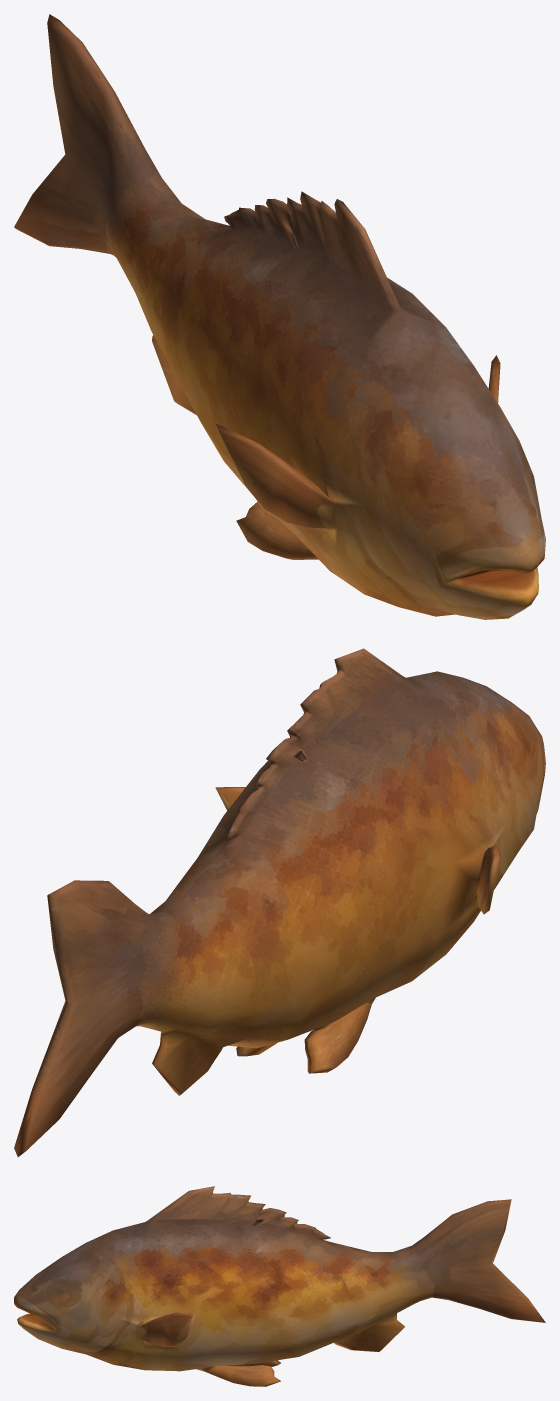
Rendered from grilled_fish.glb.
3 views of the same model, one above another, from view 1: azimuth 30°, elevation 25°; view 2: azimuth 150°, elevation 25°; view 3: azimuth 270°, elevation 25° (orthographic). The views are drawn at different scales.
Visible parts, largest first — view 1: tripo_node_620df029-07d1-45ca-aa52-ed0ce818d7c1; view 2: tripo_node_620df029-07d1-45ca-aa52-ed0ce818d7c1; view 3: tripo_node_620df029-07d1-45ca-aa52-ed0ce818d7c1.
Boxes of the visible parts, box(x1,y1,x2,y2) form: tripo_node_620df029-07d1-45ca-aa52-ed0ce818d7c1: box(14, 14, 545, 619); tripo_node_620df029-07d1-45ca-aa52-ed0ce818d7c1: box(14, 648, 545, 1156); tripo_node_620df029-07d1-45ca-aa52-ed0ce818d7c1: box(14, 1186, 545, 1386).
Bounding box in the file's own units: 0.3145 × 0.3965 × 0.998.
1 material, 1 textured.
